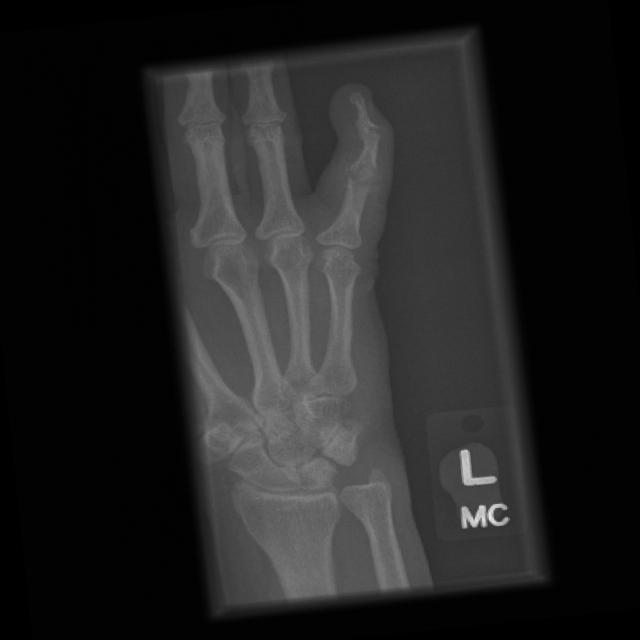fingers positive: (332, 107, 396, 224)
